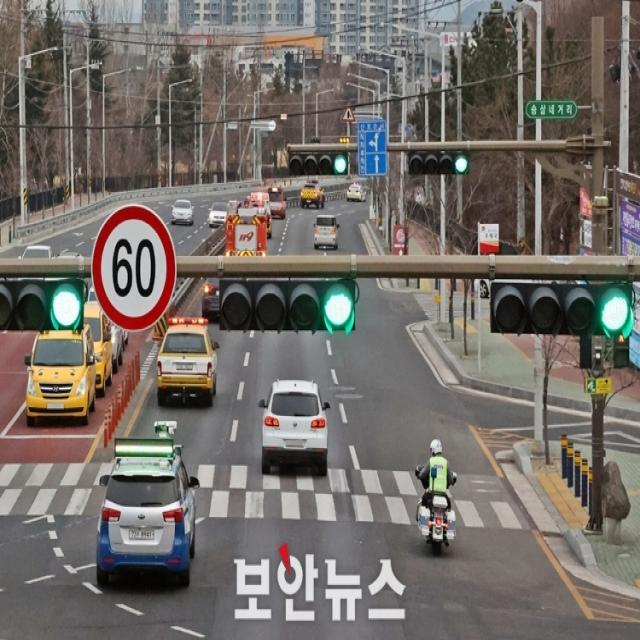Green Light: (594, 280, 633, 338), (322, 275, 358, 334), (48, 279, 84, 332), (332, 148, 347, 177), (452, 150, 469, 174)
